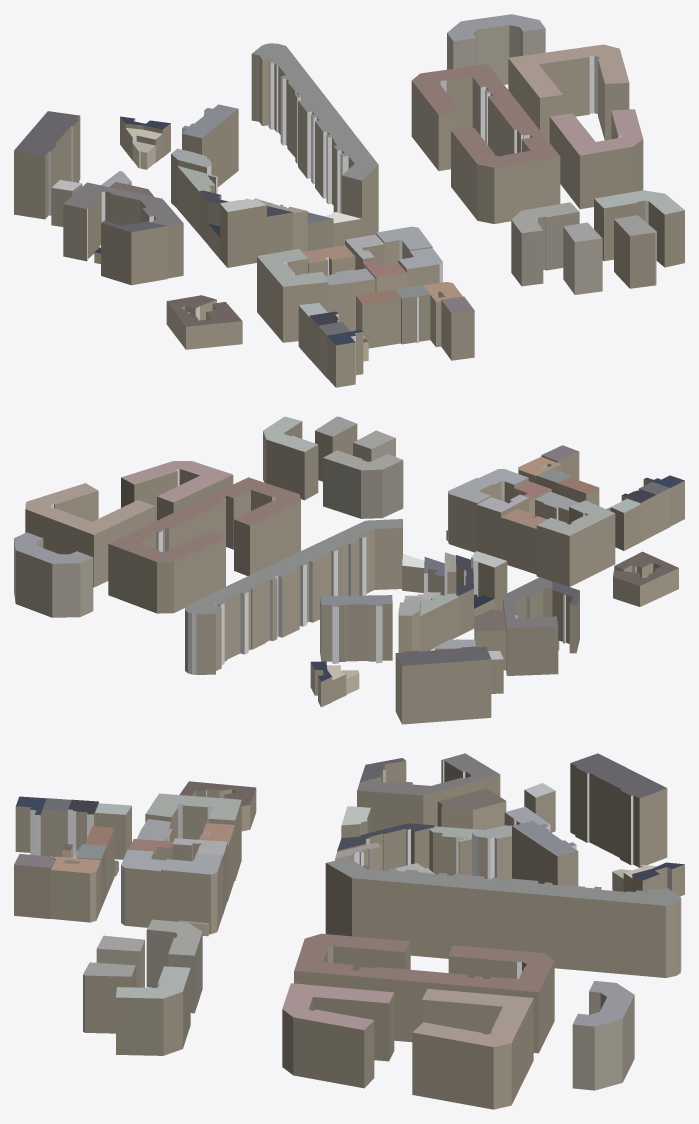
3 renders of one model, top to bottom at view 1: azimuth 30°, elevation 25°; view 2: azimuth 150°, elevation 25°; view 3: azimuth 270°, elevation 25°, orthographic. The views are drawn at different scales.
Visible parts, largest first — view 1: tuile; view 2: tuile; view 3: tuile.
Boxes of the visible parts, left/top/right/bottom form: tuile: left=14, top=14, right=684, bottom=387; tuile: left=14, top=416, right=684, bottom=724; tuile: left=14, top=753, right=684, bottom=1109.
Size of the model in its own units: 284 by 33.85 by 265.
